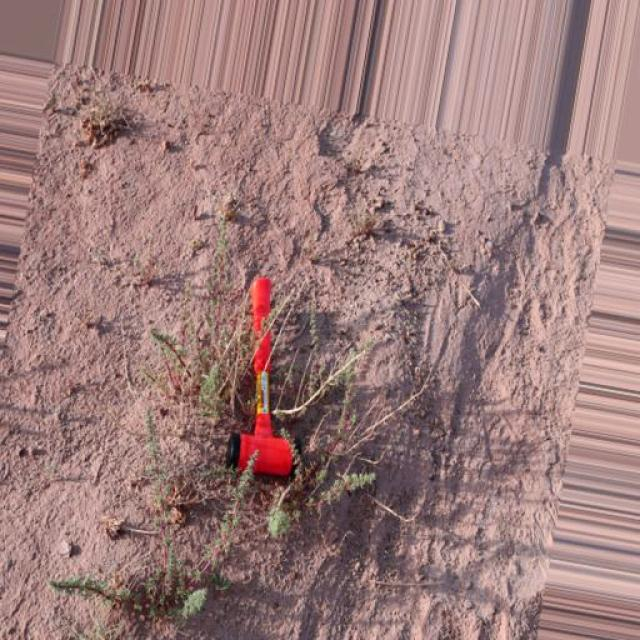mallet: (226, 275, 296, 477)
